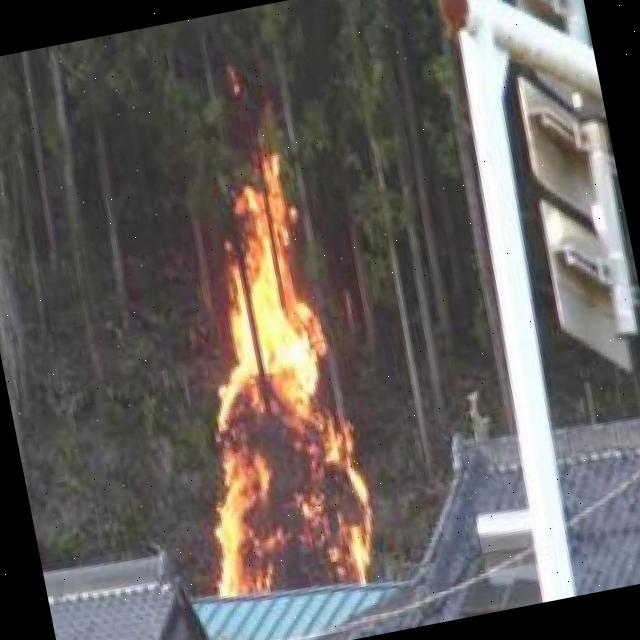fire: (148, 172, 380, 608)
